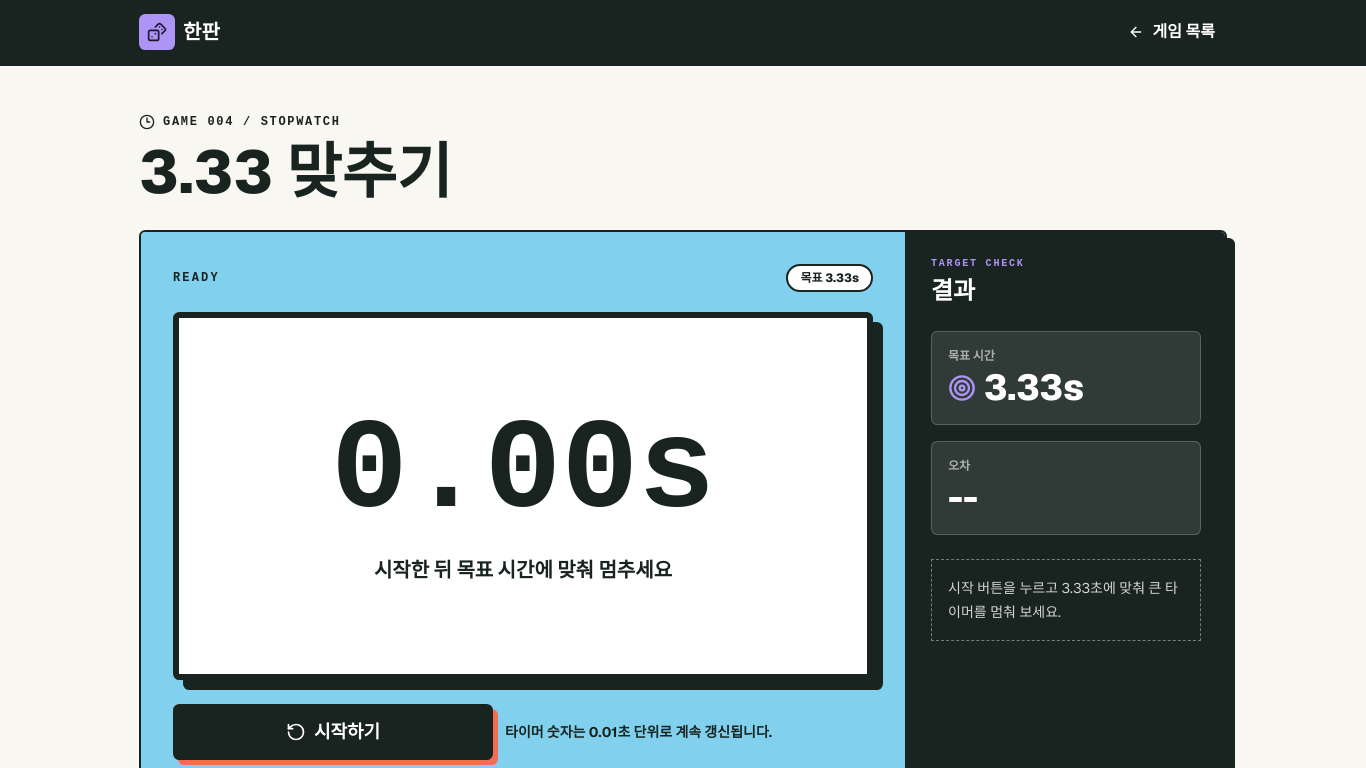
Test case: SevenSevenTimerGame › 다시 도전하면 이전 결과를 초기화하고 새 타이머를 시작한다
Click the button with test id "seven-seven-start-button" at (333, 732), box [173,704,493,760]
Wait 1000 ms
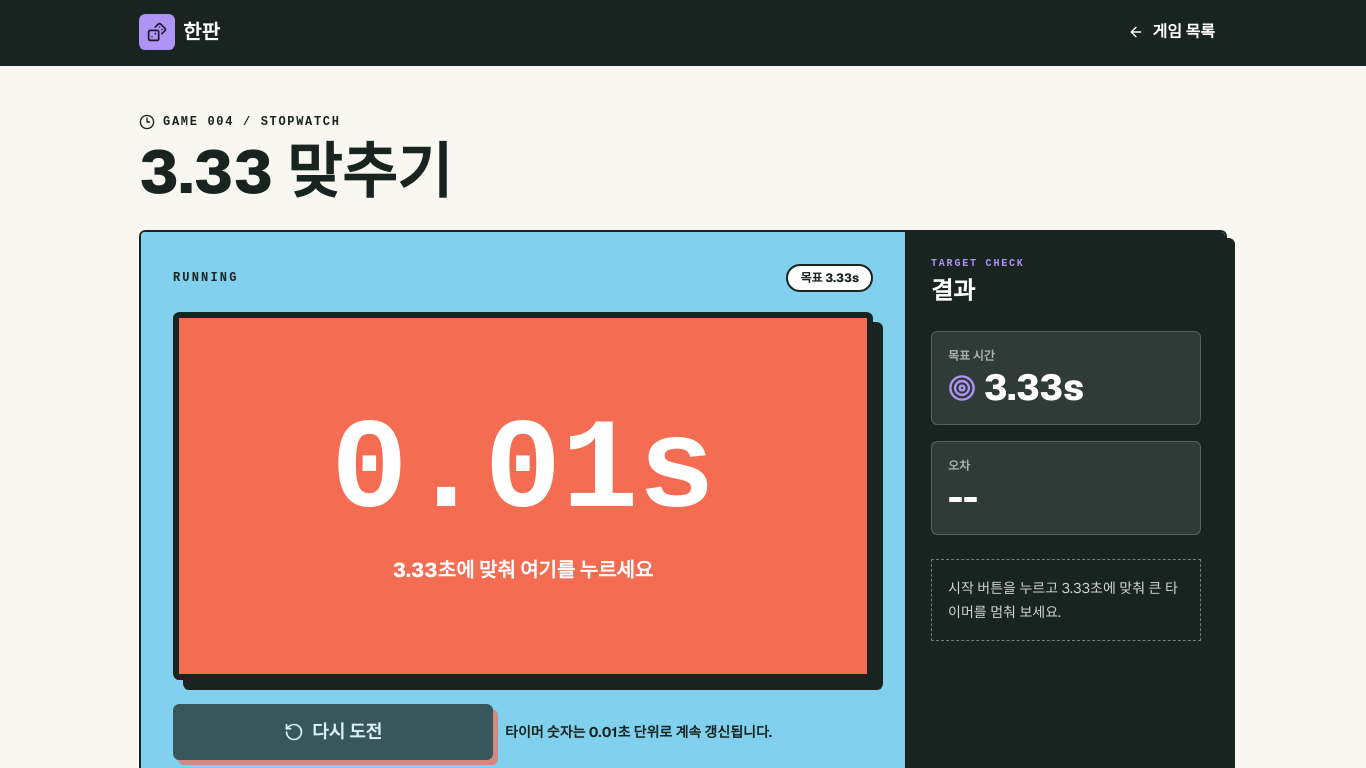
Click the button with test id "seven-seven-stop-button" at (523, 496), box [173,312,873,680]
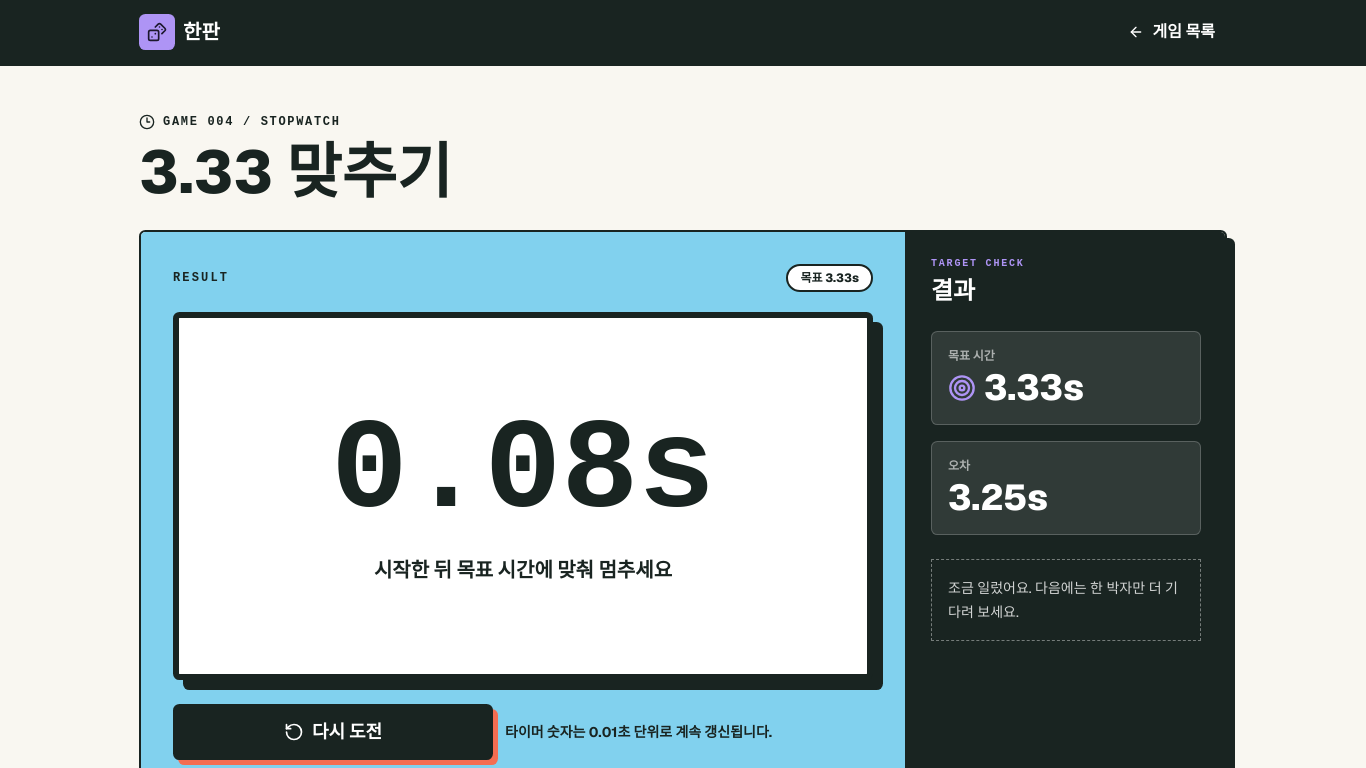
Click the button with test id "seven-seven-start-button" at (333, 732), box [173,704,493,760]
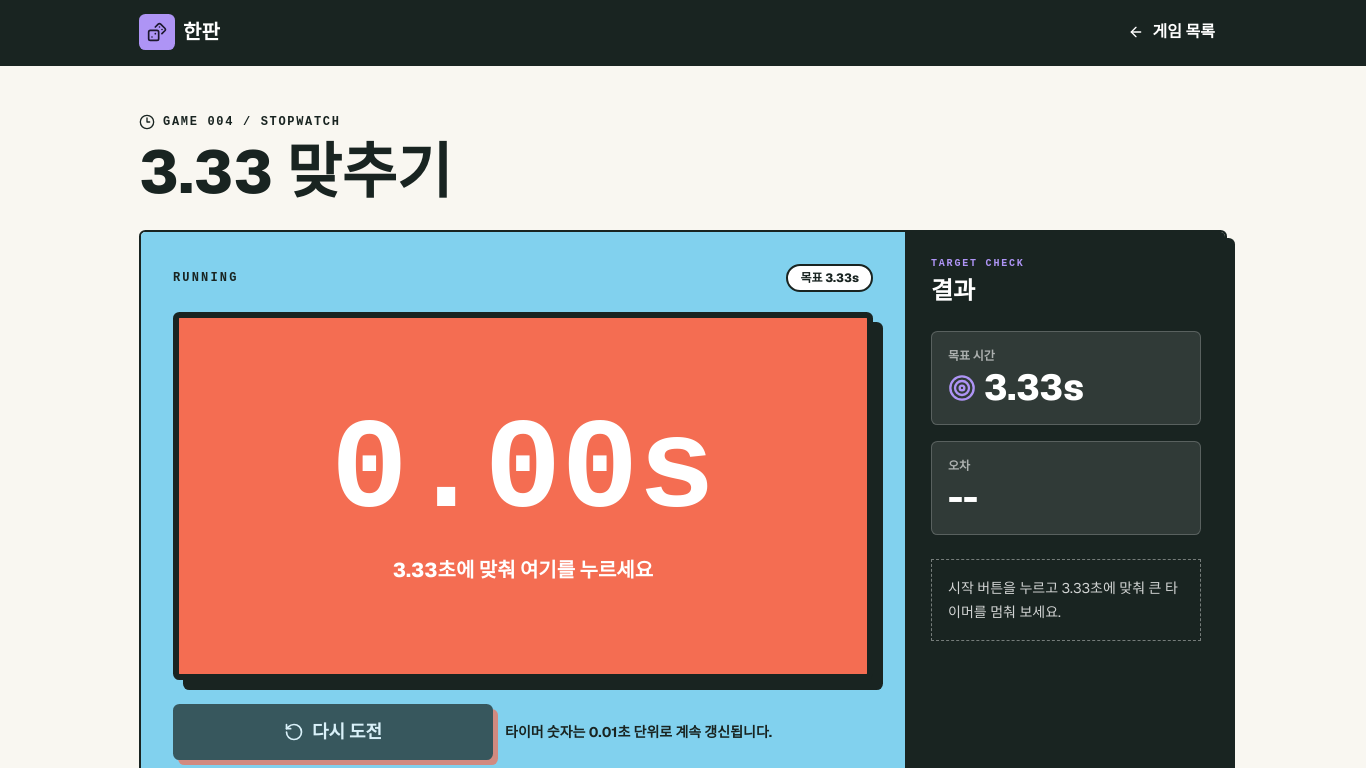
expect the text with test id "seven-seven-phase" reads "RUNNING": met, box [173,271,238,285]
expect the text with test id "seven-seven-display" reads "0.00s": met, box [331,399,715,544]
expect the text with test id "seven-seven-difference" reads "--": met, box [948,474,978,521]
